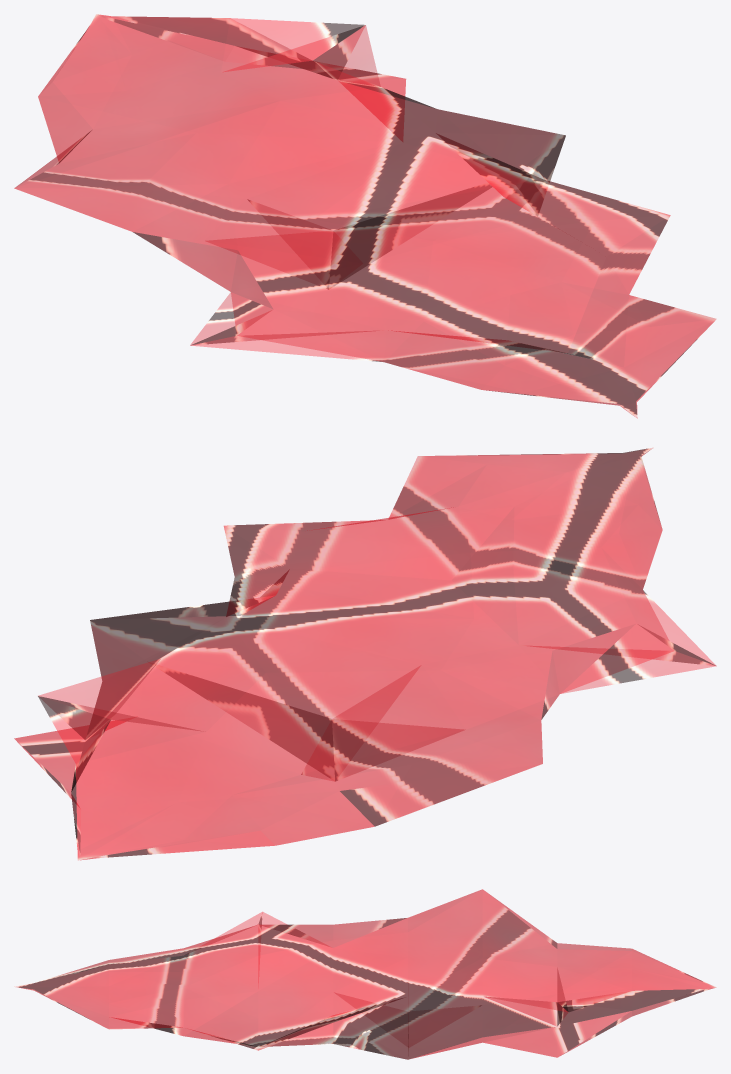
The model's file is heavens_shrapnel_shard_a.glb.
3 views of the same model, one above another, from view 1: azimuth 30°, elevation 25°; view 2: azimuth 150°, elevation 25°; view 3: azimuth 270°, elevation 25° (orthographic). The views are drawn at different scales.
Visible parts, largest first — view 1: heavens_shrapnel_shard_a; view 2: heavens_shrapnel_shard_a; view 3: heavens_shrapnel_shard_a.
Boxes of the visible parts, x1,y1,x2,y2 form: heavens_shrapnel_shard_a: [14, 14, 716, 418]; heavens_shrapnel_shard_a: [14, 447, 716, 860]; heavens_shrapnel_shard_a: [14, 889, 716, 1059].
Bounding box in the file's own units: 0.2284 × 0.064 × 0.4389.
1 material, 1 textured.
